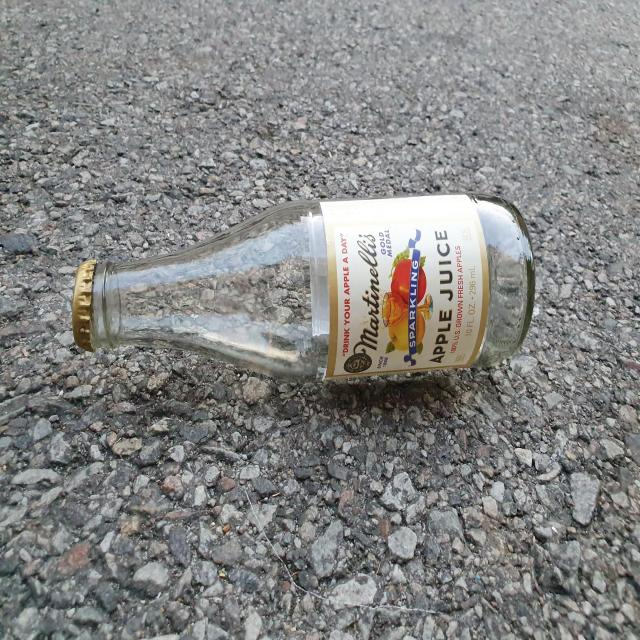glass: (73, 193, 535, 380)
